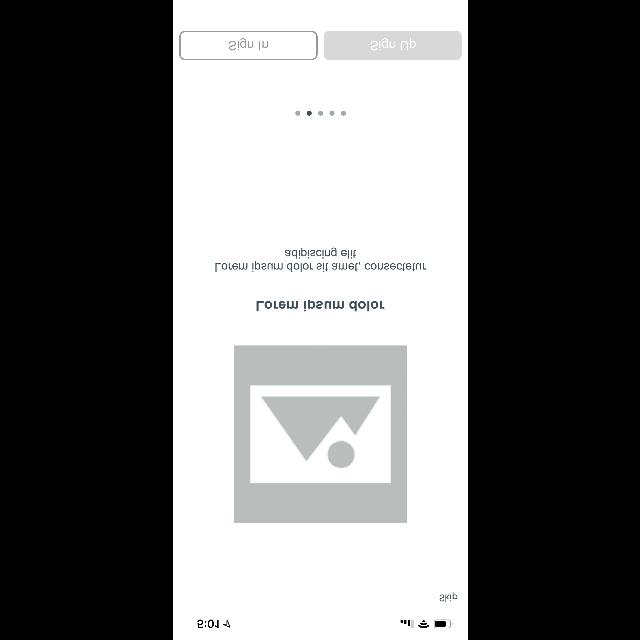image: (232, 345, 406, 525)
pageindicator: (294, 110, 346, 116)
text: (214, 248, 426, 272), (256, 300, 384, 312), (439, 592, 457, 602)
textbutton: (178, 30, 318, 60), (323, 30, 461, 60)
uppertaskbar: (196, 619, 452, 629)
